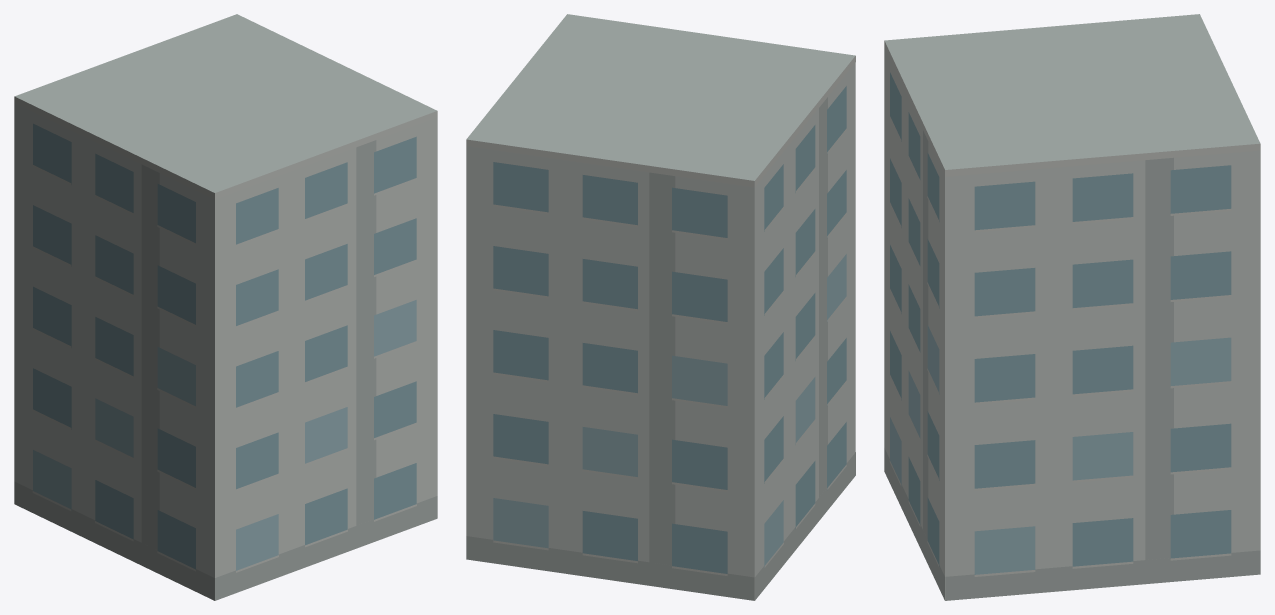
Rendered from residential-b7e4923d-7091-4bc7-8a65-b7500bbdddfc.glb.
The picture shows the model from 3 angles, left to right: view 1: azimuth 30°, elevation 25°; view 2: azimuth 150°, elevation 25°; view 3: azimuth 270°, elevation 25°; orthographic projection. The views are drawn at different scales.
Visible parts, largest first — view 1: residential-b7e4923d-7091-4bc7-8a65-b7500bbdddfc.tmp; view 2: residential-b7e4923d-7091-4bc7-8a65-b7500bbdddfc.tmp; view 3: residential-b7e4923d-7091-4bc7-8a65-b7500bbdddfc.tmp.
Part boxes in pixels (x1,y1,x2,y2): residential-b7e4923d-7091-4bc7-8a65-b7500bbdddfc.tmp: (14, 14, 437, 600); residential-b7e4923d-7091-4bc7-8a65-b7500bbdddfc.tmp: (466, 14, 855, 600); residential-b7e4923d-7091-4bc7-8a65-b7500bbdddfc.tmp: (884, 14, 1260, 600).
Bounding box in the file's own units: 11.85 × 15.25 × 12.08.
